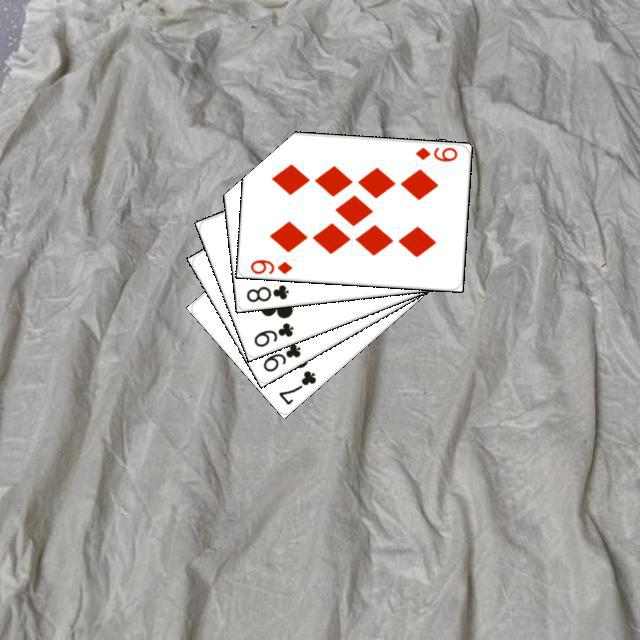7c: (274, 365, 318, 407)
8c: (241, 280, 291, 304)
9c: (258, 339, 303, 374), (249, 318, 295, 349)
9d: (410, 142, 459, 163), (246, 255, 294, 275)
